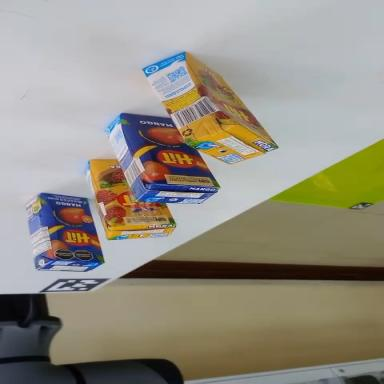HIT-MANGO: (95, 90, 222, 230), (23, 185, 104, 278)
HIT-MORA: (132, 33, 278, 191), (76, 140, 177, 258)
cara_F: (112, 90, 221, 217), (180, 44, 278, 158), (37, 181, 105, 275), (91, 156, 176, 228)
